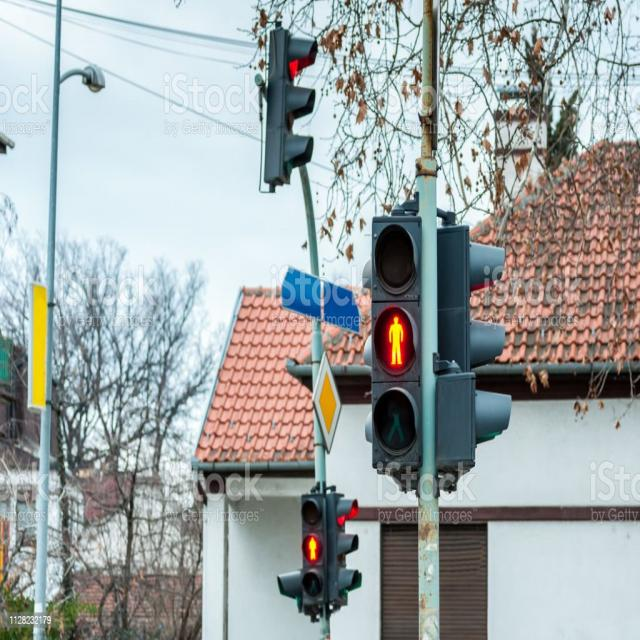Not go: (356, 217, 441, 472), (363, 288, 420, 382), (298, 482, 330, 619)
